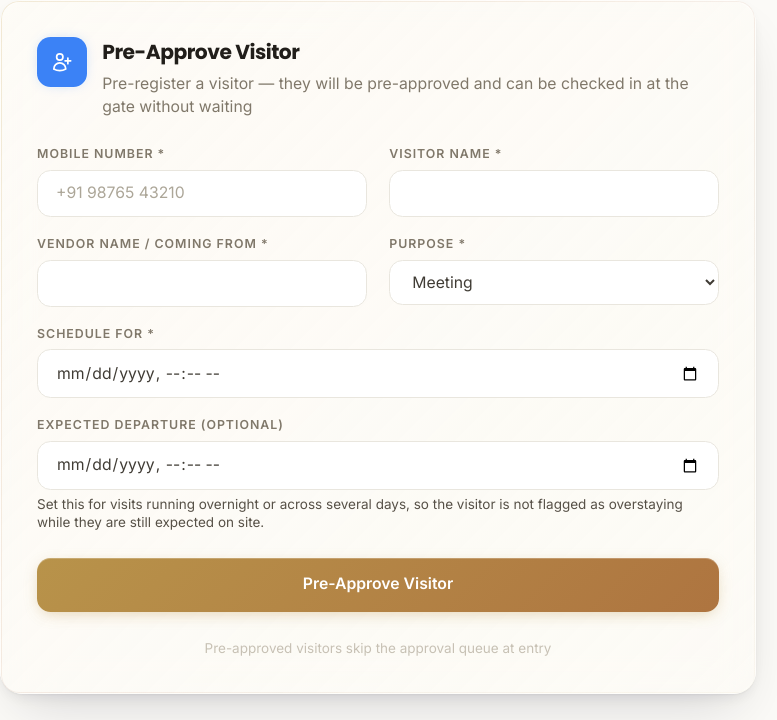
Scenario: PreApproveForm errors › shows error when RPC returns null result
In the field with placeholder "+91 98765 43210": (202,193) [37,170,367,217], type "9876543210"
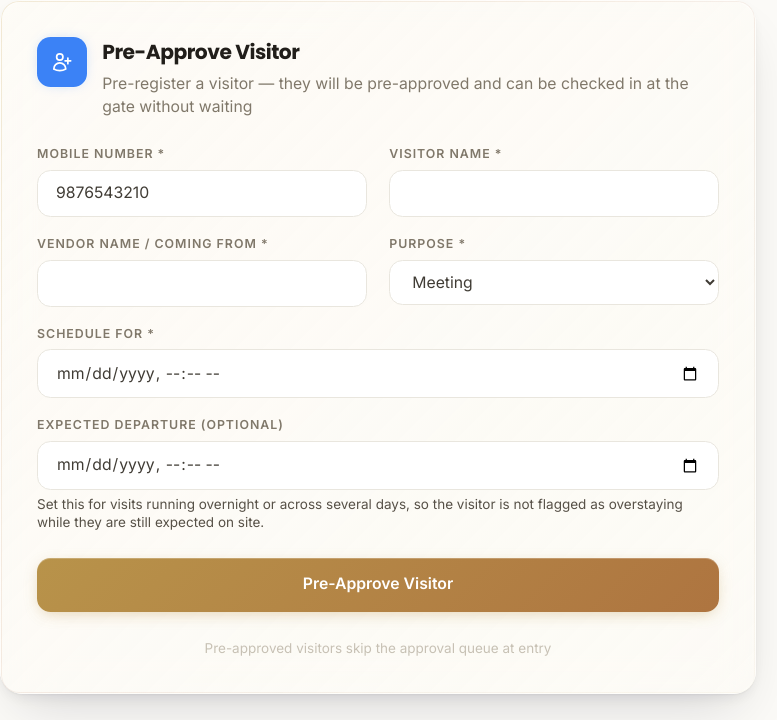
In the field below "Visitor Name *": (554,193) [389,170,719,217], type "Test Visitor"
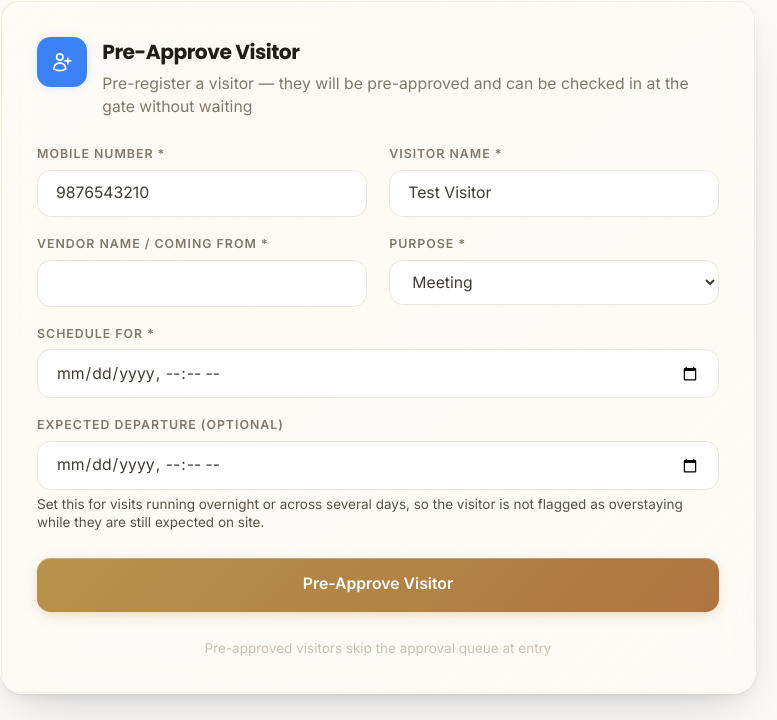
In the field below "Vendor Name / Coming from *": (202,283) [37,260,367,306], type "Test Corp"
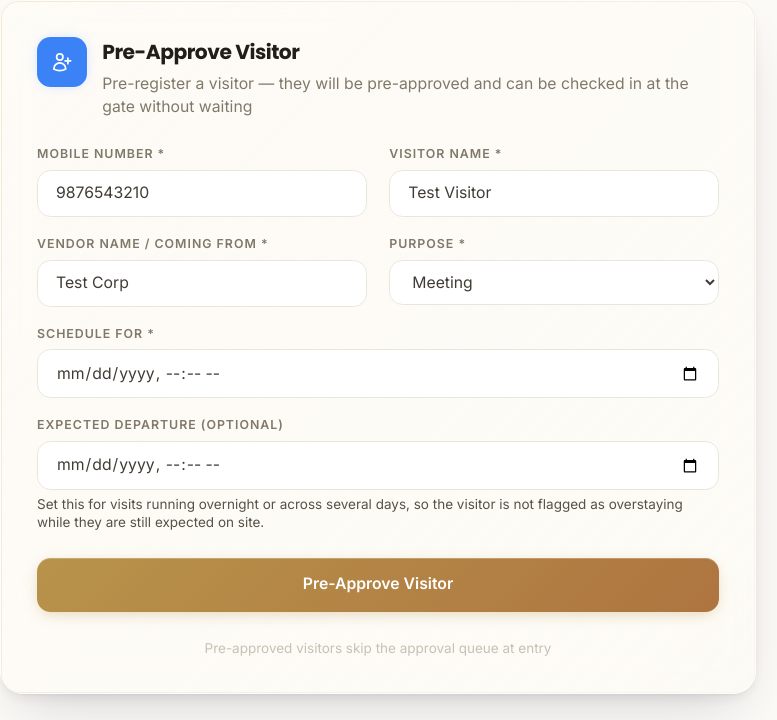
In the field labelled "Schedule for *": (378,374) [37,349,719,398], type "2026-08-05T10:00"
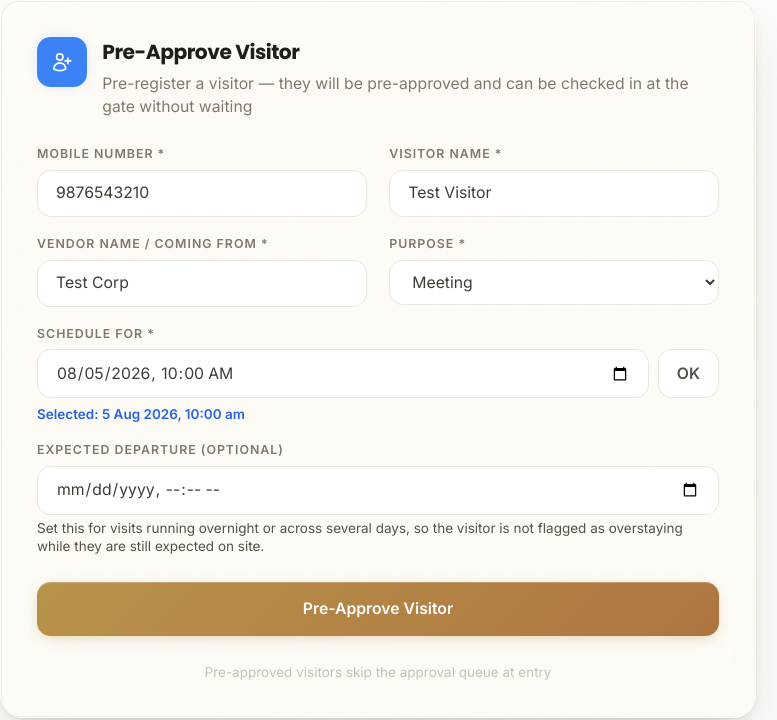
Click the button "Pre-Approve Visitor": (378,609) [37,582,719,636]
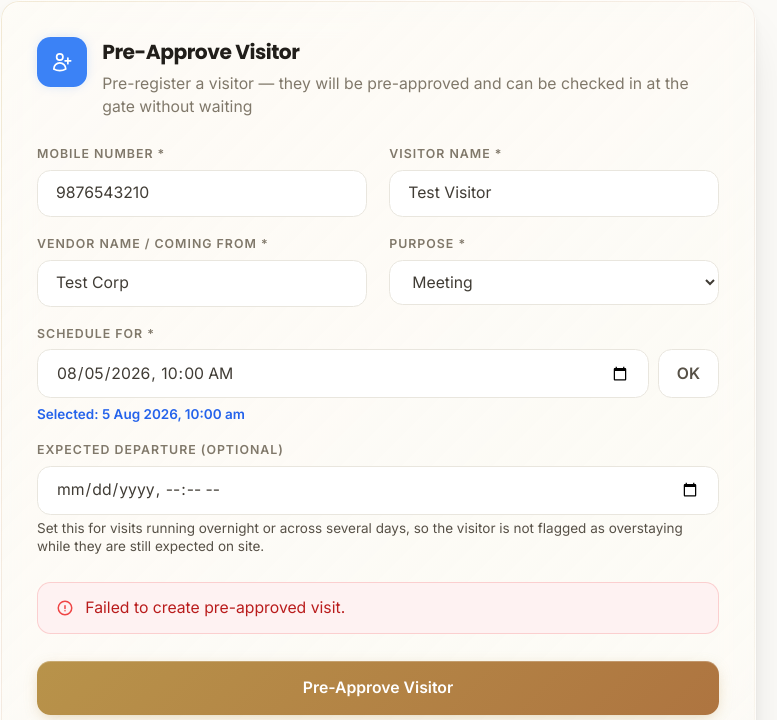
Result: the text "Failed to create pre-approved visit." is shown at [37,582,719,634]
